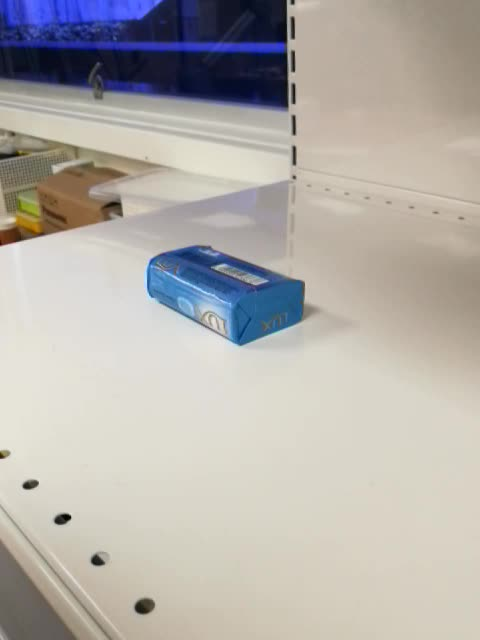soap: (143, 243, 308, 348)
